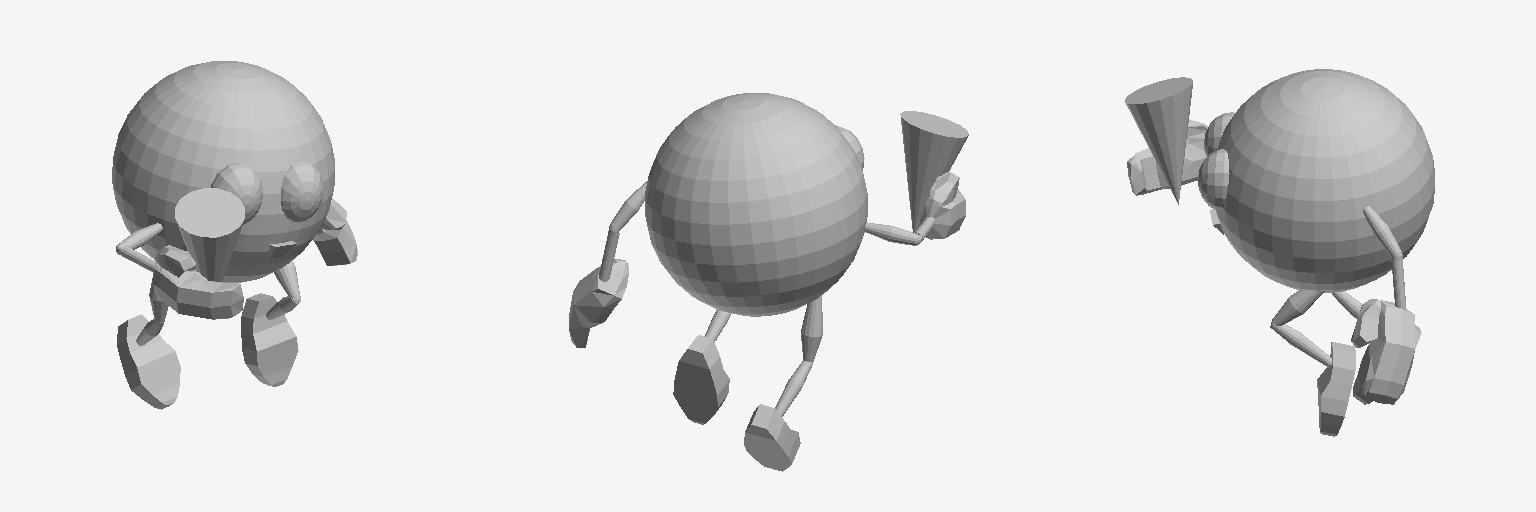
Rendered from Rusko_ani_04_000034.obj.
3 views of the same model, side by side, from view 1: azimuth 30°, elevation 25°; view 2: azimuth 150°, elevation 25°; view 3: azimuth 270°, elevation 25° (orthographic).
Visible parts, largest first — view 1: Rusko_Sphere; view 2: Rusko_Sphere; view 3: Rusko_Sphere.
Boxes of the visible parts, x1,y1,x2,y2 form: Rusko_Sphere: [112, 61, 357, 409]; Rusko_Sphere: [569, 93, 968, 471]; Rusko_Sphere: [1125, 69, 1434, 436].
Size of the model in its own units: 6.04 by 6.75 by 5.55.